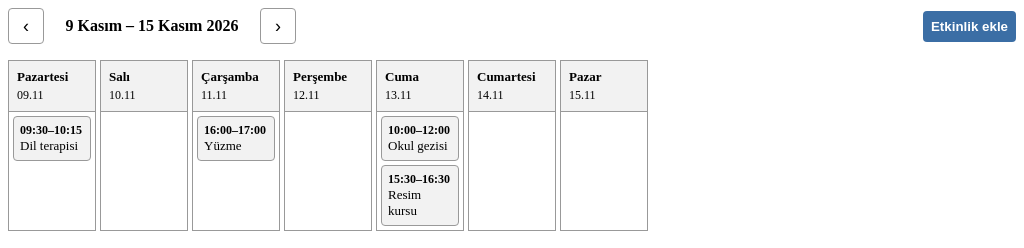
WeeklySchedulePage › week view (FR-M3-03) › the week buttons open the next and the previous week
Click the button named "Sonraki hafta" at coordinates (278, 26), box [260,8,296,44]
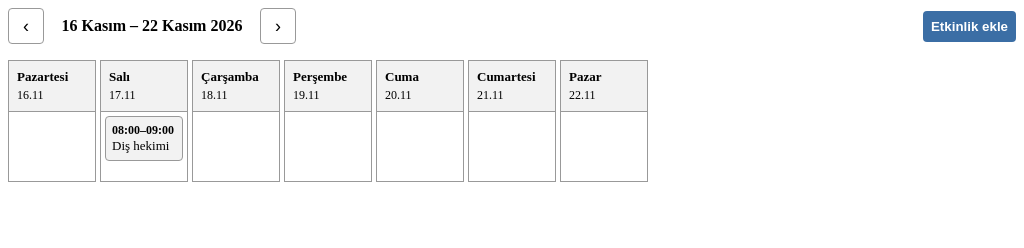
expect the heading "16 Kasım – 22 Kasım 2026" is shown: met, box [52,17,252,35]
expect the list item with test id "day" shows "17.11": met, box [109,88,136,102]
Click the button named "Önceki hafta" at coordinates (26, 26), box [8,8,44,44]
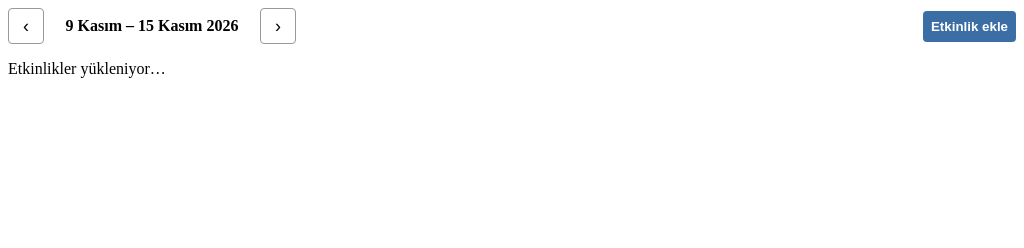
Click the button named "Önceki hafta" at coordinates (26, 26), box [8,8,44,44]
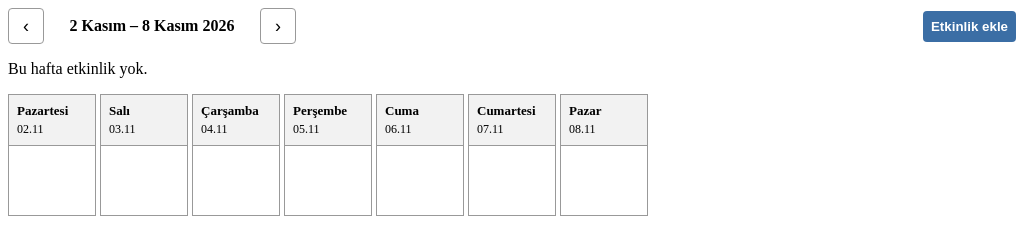
expect the heading "2 Kasım – 8 Kasım 2026" is shown: met, box [70,17,234,34]
expect the text "Bu hafta etkinlik yok." is shown: met, box [8,60,148,77]
